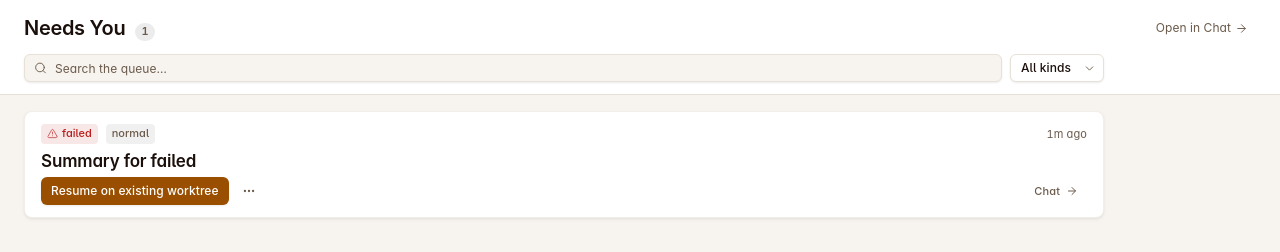
Test: TriageRow – error feedback shown when mutation fails › shows error text when invokeAction rejects
This screenshot has width=1280, height=252.
Click the button with test id "triage-verb-continue": click(135, 191) [41, 177, 229, 205]
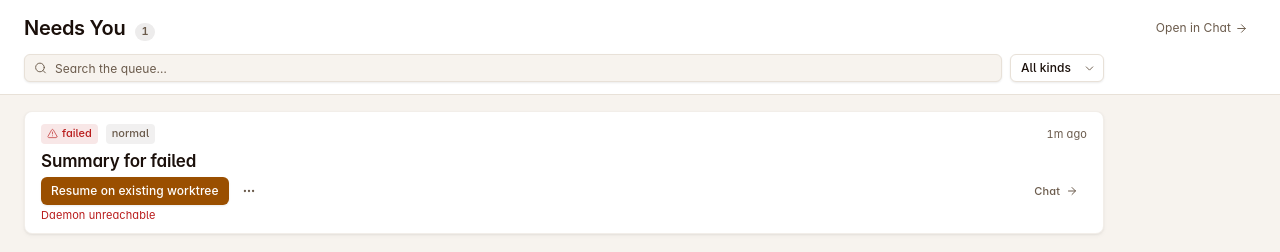
Now the text with test id "triage-error" reads "Daemon unreachable", box [41, 208, 156, 222]
